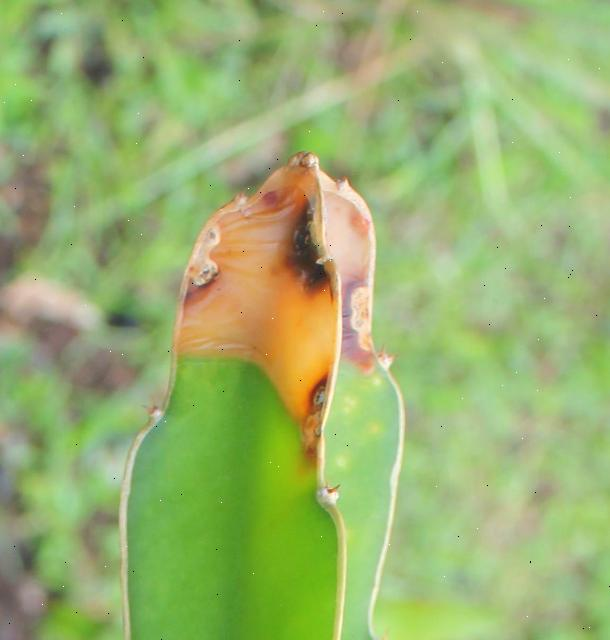stemcanker: (124, 138, 414, 634)
